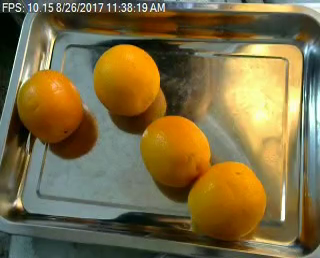Orange: (187, 160, 268, 240), (140, 115, 211, 187), (16, 70, 82, 143), (93, 43, 159, 116)
